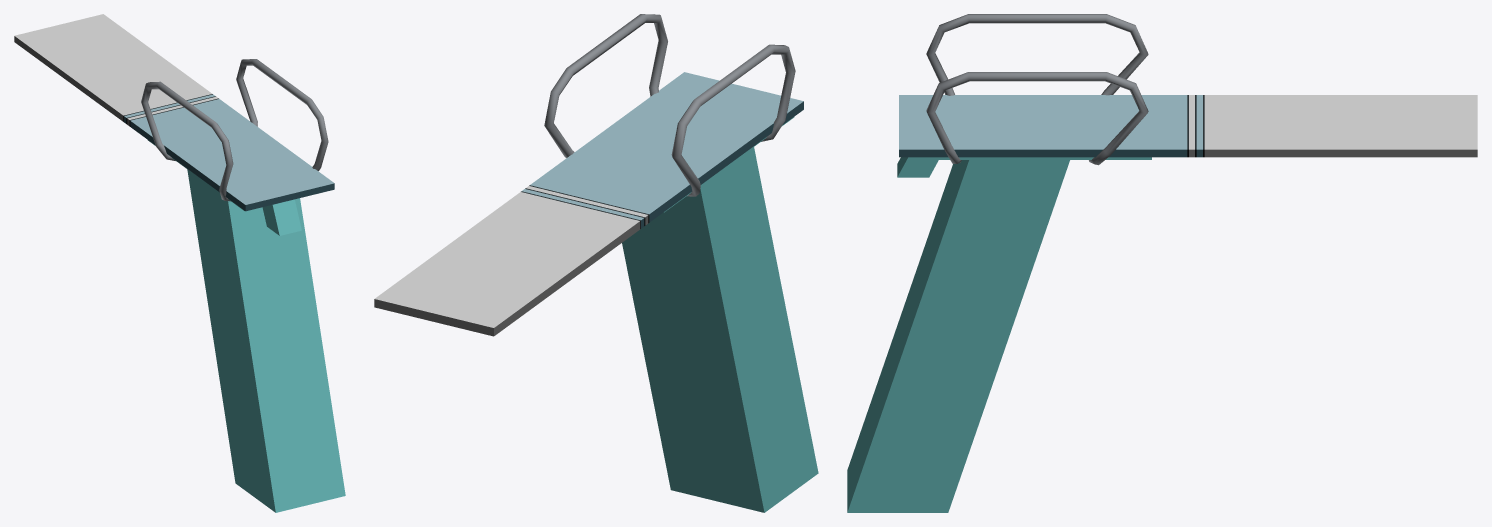
The model's file is Diving Board.fbx.
3 views of the same model, side by side, from view 1: azimuth 30°, elevation 25°; view 2: azimuth 150°, elevation 25°; view 3: azimuth 270°, elevation 25° (orthographic). The views are drawn at different scales.
Parts seen in each view (by area): view 1: Diving Board; view 2: Diving Board; view 3: Diving Board.
Boxes of the visible parts, x1,y1,x2,y2 form: Diving Board: [14, 14, 345, 512]; Diving Board: [374, 14, 818, 512]; Diving Board: [847, 14, 1477, 512].
Bounding box in the file's own units: 0.9167 × 3.09 × 3.94.
